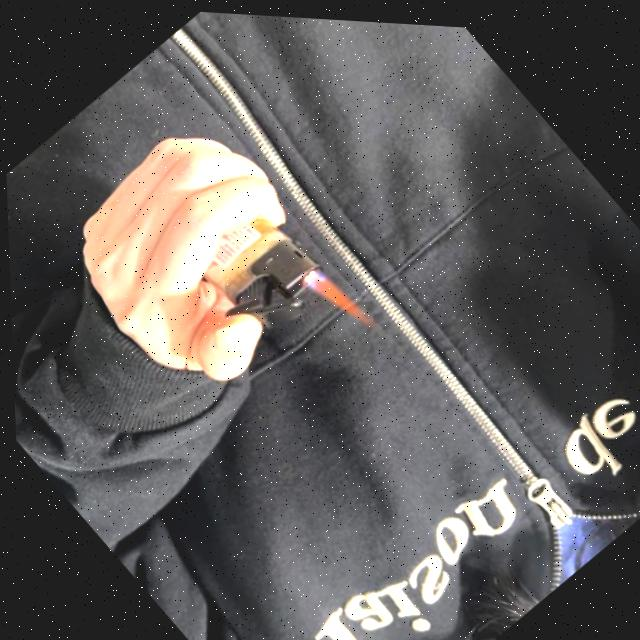Fire: (307, 260, 380, 339)
